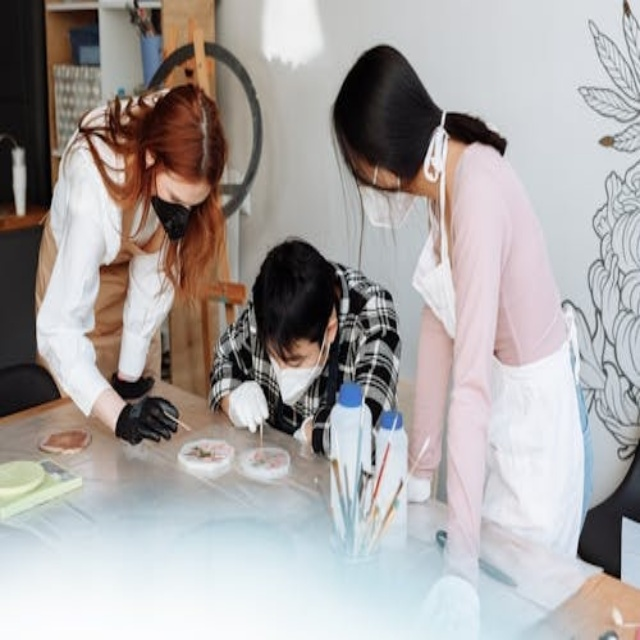Guantes: (408, 555, 485, 632), (113, 386, 183, 454), (228, 379, 275, 442), (102, 352, 156, 392)
Mascara: (342, 173, 417, 238), (264, 350, 321, 409), (143, 186, 205, 240)
Sin_gafas: (159, 173, 209, 211), (262, 346, 320, 375)
